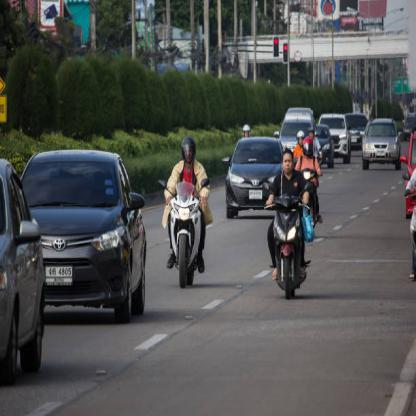Motorcycle: (167, 176, 222, 298), (266, 197, 308, 298)
